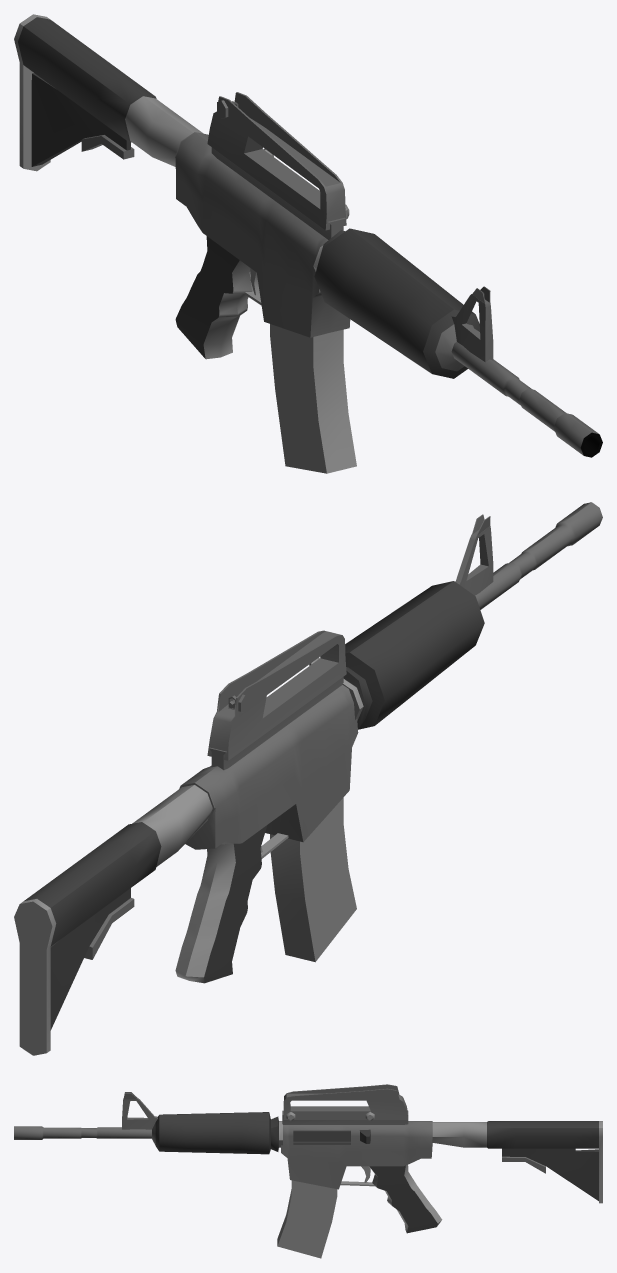
Rendered from 12-Patrol-carbine.glb.
The picture shows the model from 3 angles, top to bottom: view 1: azimuth 30°, elevation 25°; view 2: azimuth 150°, elevation 25°; view 3: azimuth 270°, elevation 25°; orthographic projection. The views are drawn at different scales.
Parts seen in each view (by area): view 1: Patrol carbine; view 2: Patrol carbine; view 3: Patrol carbine.
Boxes of the visible parts, x1,y1,x2,y2 form: Patrol carbine: [14, 14, 602, 473]; Patrol carbine: [14, 502, 602, 1055]; Patrol carbine: [14, 1084, 602, 1258].
Size of the model in its own units: 0.0649 by 0.2801 by 0.89.
1 material, 1 textured.
